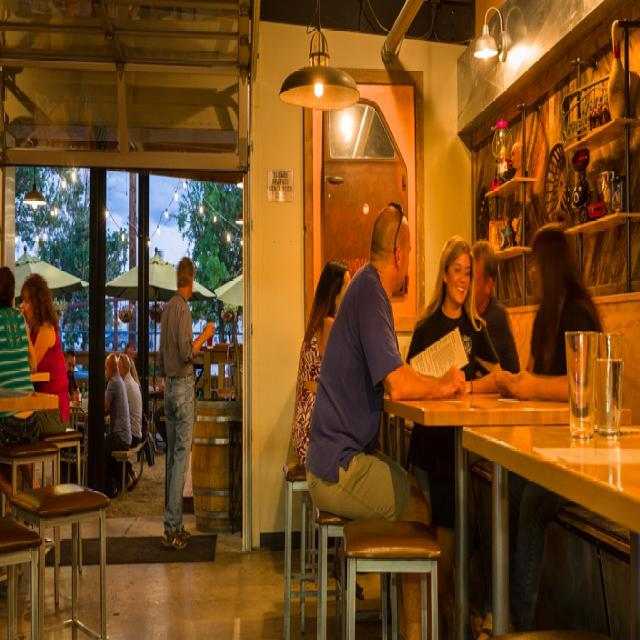body: (304, 197, 448, 639), (483, 220, 609, 639), (404, 233, 505, 601), (470, 238, 524, 603), (160, 253, 217, 550), (291, 255, 353, 476), (15, 271, 71, 491), (0, 264, 39, 519), (101, 353, 132, 500), (116, 352, 142, 493), (117, 350, 144, 449), (65, 348, 83, 401)
